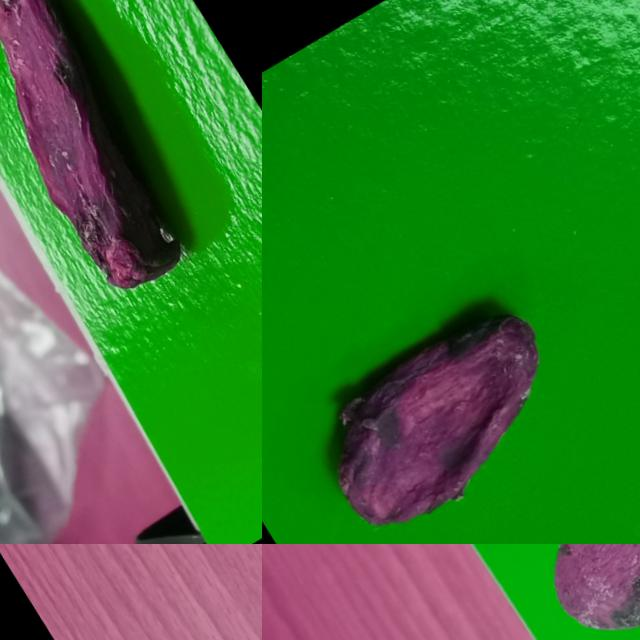Fine_cocoabeans: (448, 544, 639, 639)
Flat_cocoabeans: (262, 193, 639, 543), (0, 0, 261, 465)
